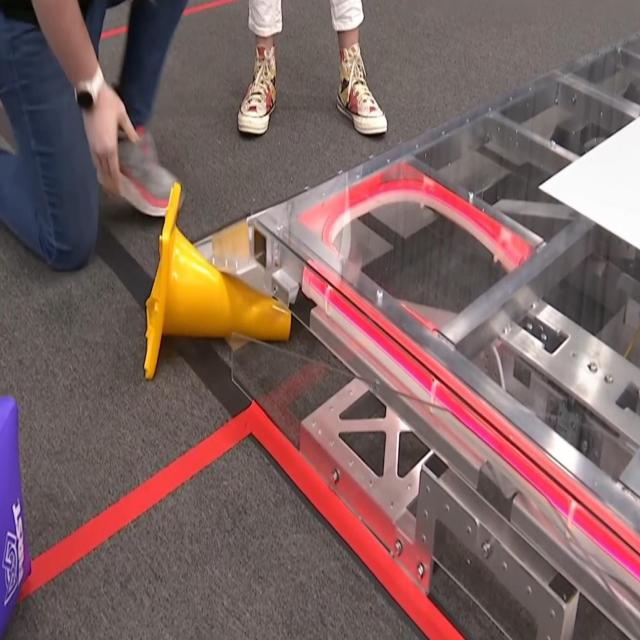frc_cone: (142, 178, 292, 382)
frc_cube: (0, 393, 32, 640)
